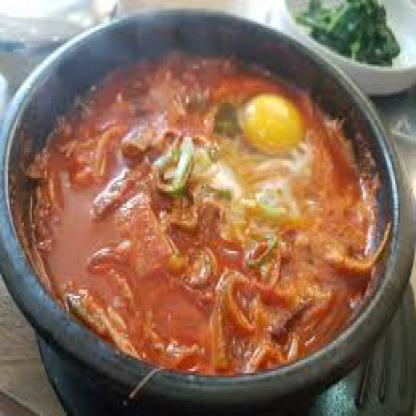spicy yuke jang: (31, 32, 372, 375)
